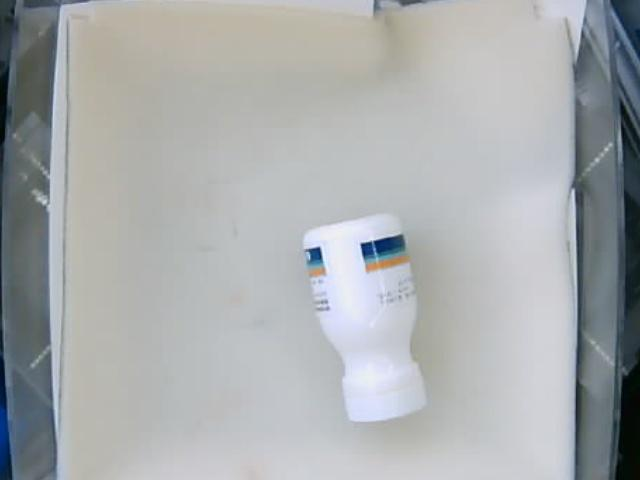Bottle: (303, 214, 421, 424)
